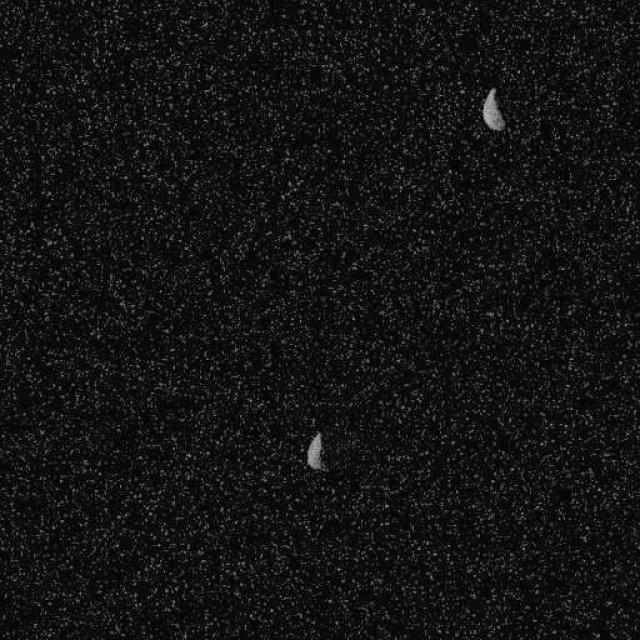D2: (480, 86, 505, 132), (305, 430, 327, 471)
